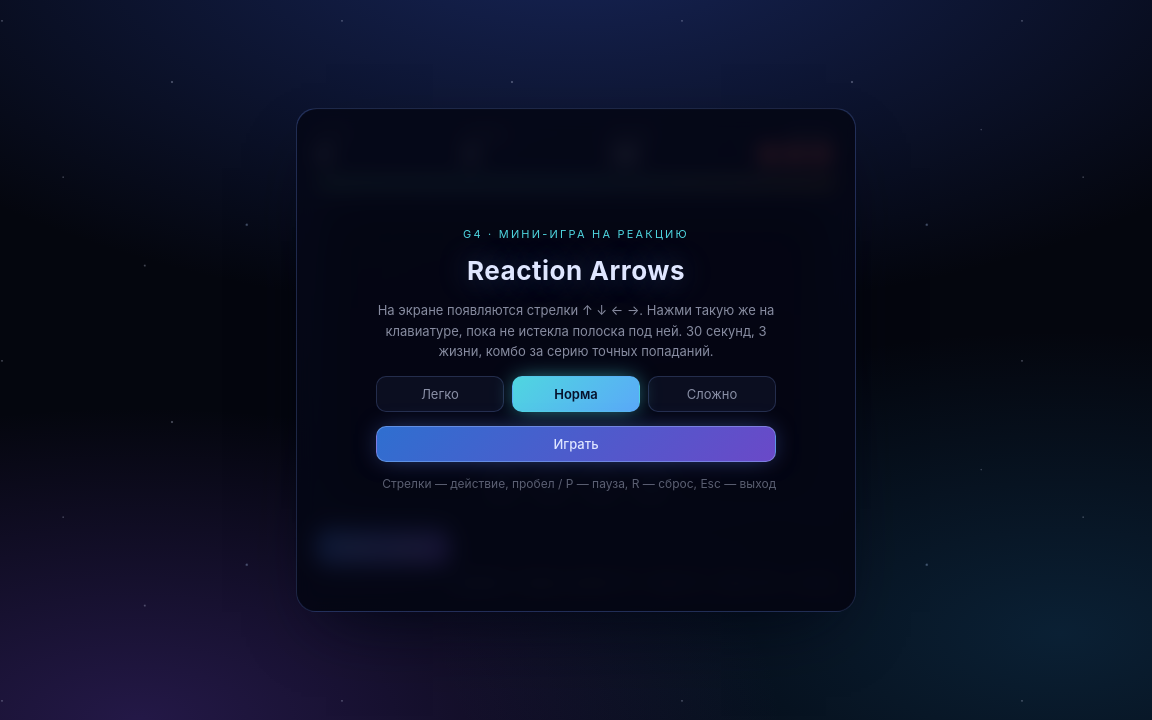
start button switches to the round screen with a zeroed hud
Click the button "Играть" at {"x": 576, "y": 444}, box [376,426,776,462]
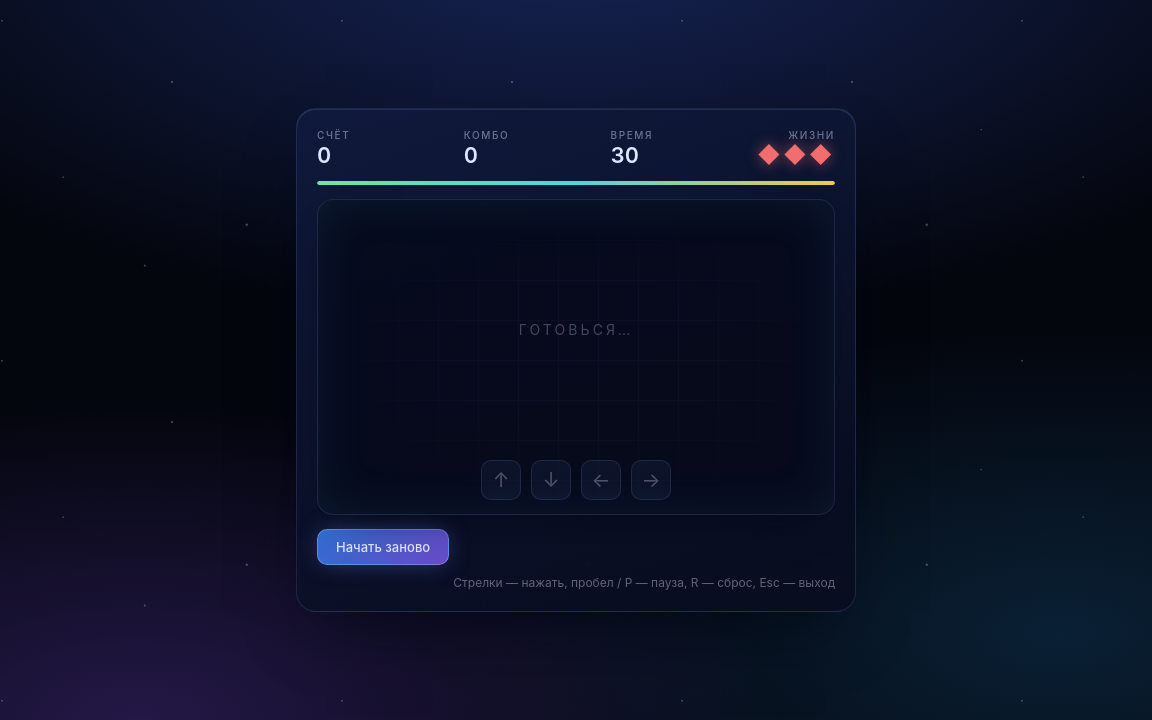
Expected: the text "Готовься…" is shown, [519,321,633,338]
Now the heading "Reaction Arrows" is gone
